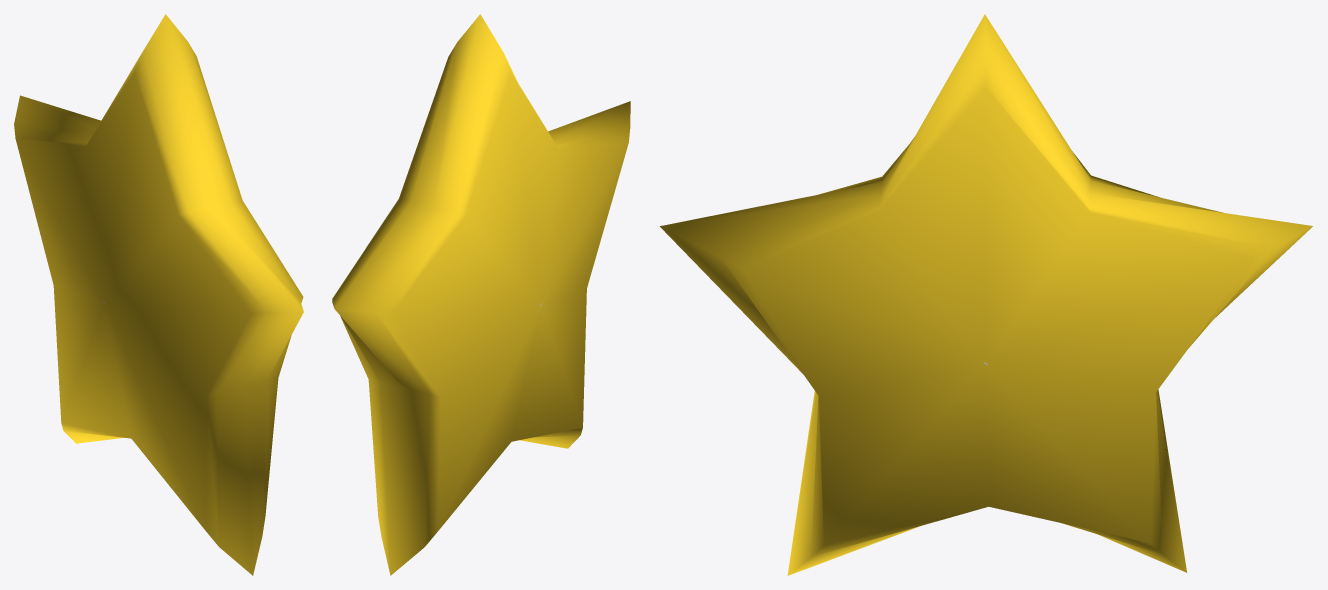
Rendered from star.fbx.
3 renders of one model, left to right at view 1: azimuth 30°, elevation 25°; view 2: azimuth 150°, elevation 25°; view 3: azimuth 270°, elevation 25°, orthographic. The views are drawn at different scales.
Visible parts, largest first — view 1: Cylinder; view 2: Cylinder; view 3: Cylinder.
Boxes of the visible parts, x1,y1,x2,y2 form: Cylinder: (14, 14, 303, 575); Cylinder: (332, 14, 630, 575); Cylinder: (660, 14, 1312, 575).
Size of the model in its own units: 50.68 by 181 by 190.
1 material, 1 textured.
